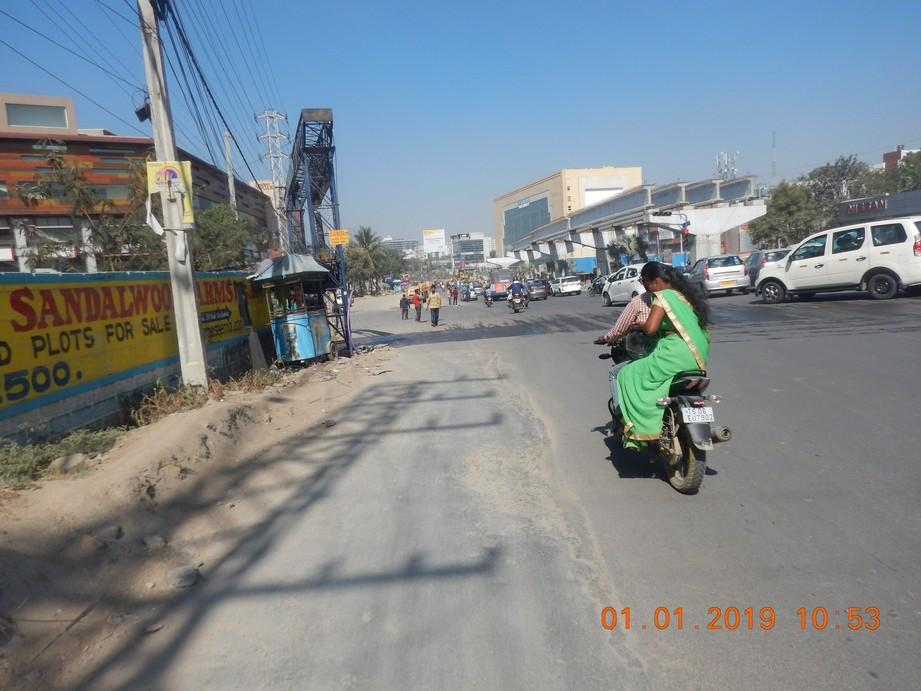plate: (680, 406, 717, 424)
